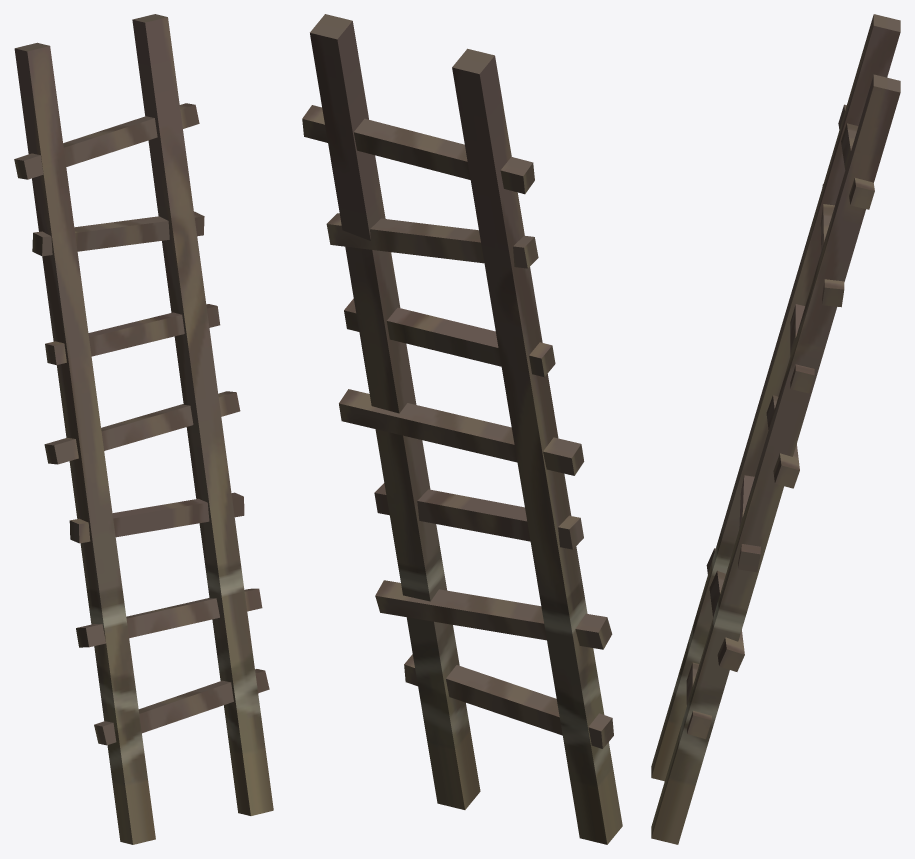
The model's file is ladder_mesh.fbx.
The picture shows the model from 3 angles, left to right: view 1: azimuth 30°, elevation 25°; view 2: azimuth 150°, elevation 25°; view 3: azimuth 270°, elevation 25°; orthographic projection. The views are drawn at different scales.
Visible parts, largest first — view 1: ladder_mesh; view 2: ladder_mesh; view 3: ladder_mesh.
Boxes of the visible parts, x1,y1,x2,y2 form: ladder_mesh: (14,14,273,844); ladder_mesh: (302,14,622,844); ladder_mesh: (651,14,900,844).
Bounding box in the file's own units: 0.7245 × 2.64 × 0.7861.
